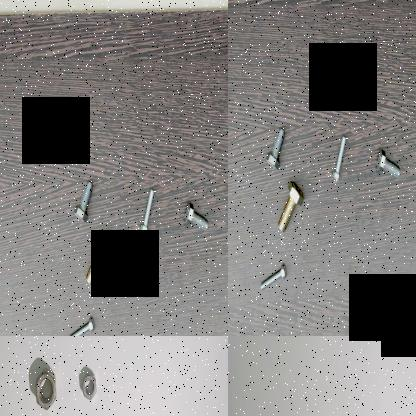Bolts: (278, 172, 306, 240), (368, 282, 401, 336), (84, 231, 112, 285), (181, 194, 211, 238), (372, 145, 402, 186), (72, 176, 98, 223), (136, 178, 157, 234), (326, 135, 348, 182), (257, 261, 288, 292), (65, 312, 97, 336)
NUTS: (32, 368, 58, 412), (80, 370, 100, 400)
